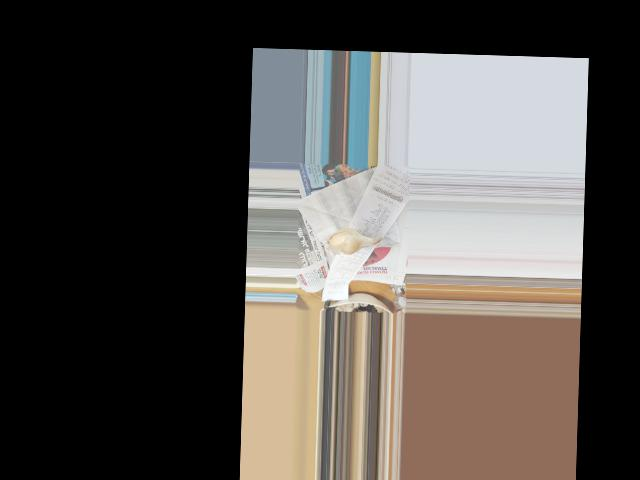onion: (328, 226, 371, 256)
